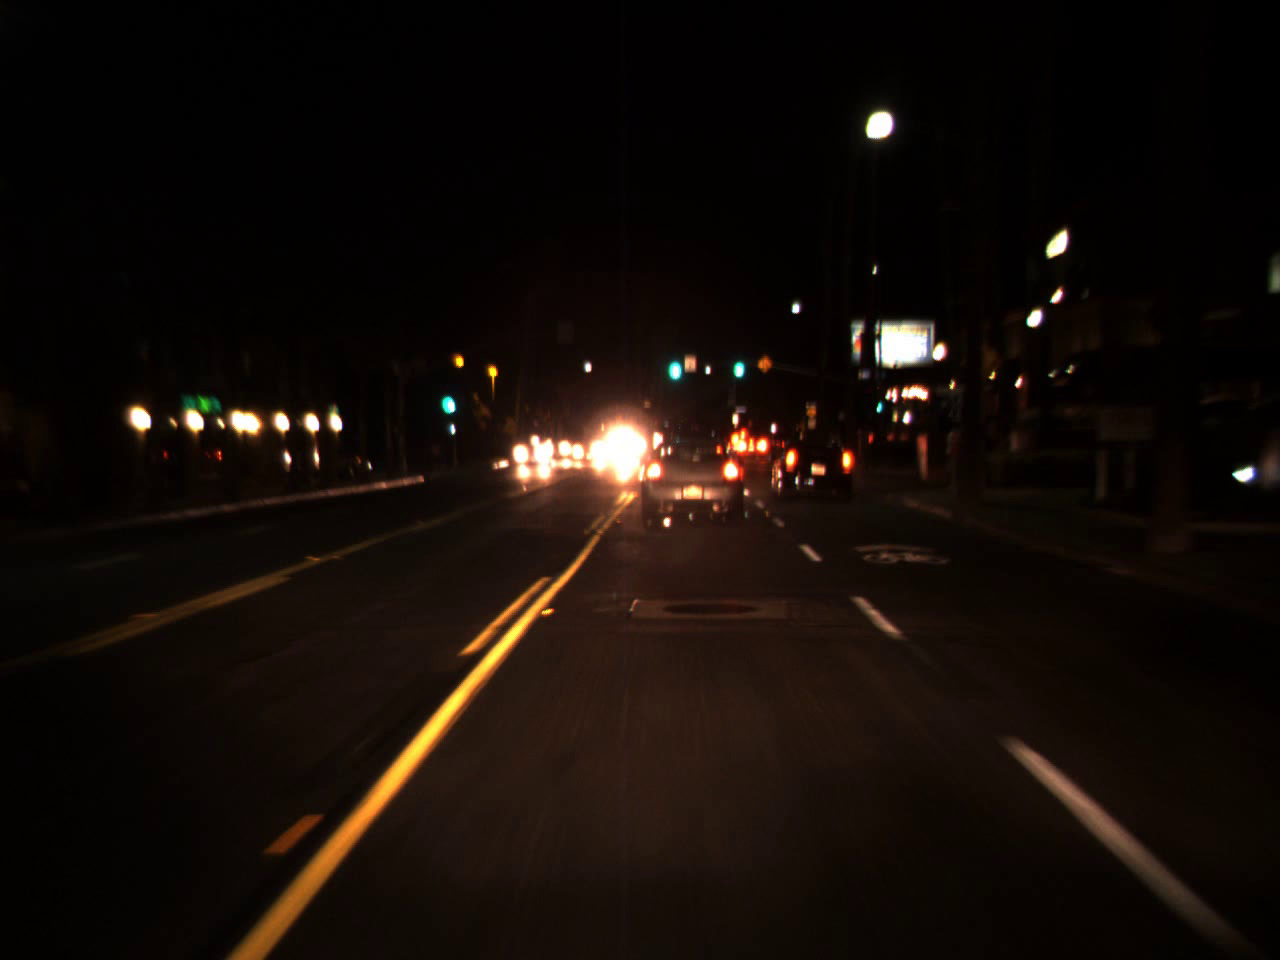go: (664, 339, 683, 387), (438, 373, 456, 421), (729, 345, 747, 381), (870, 387, 886, 417)
